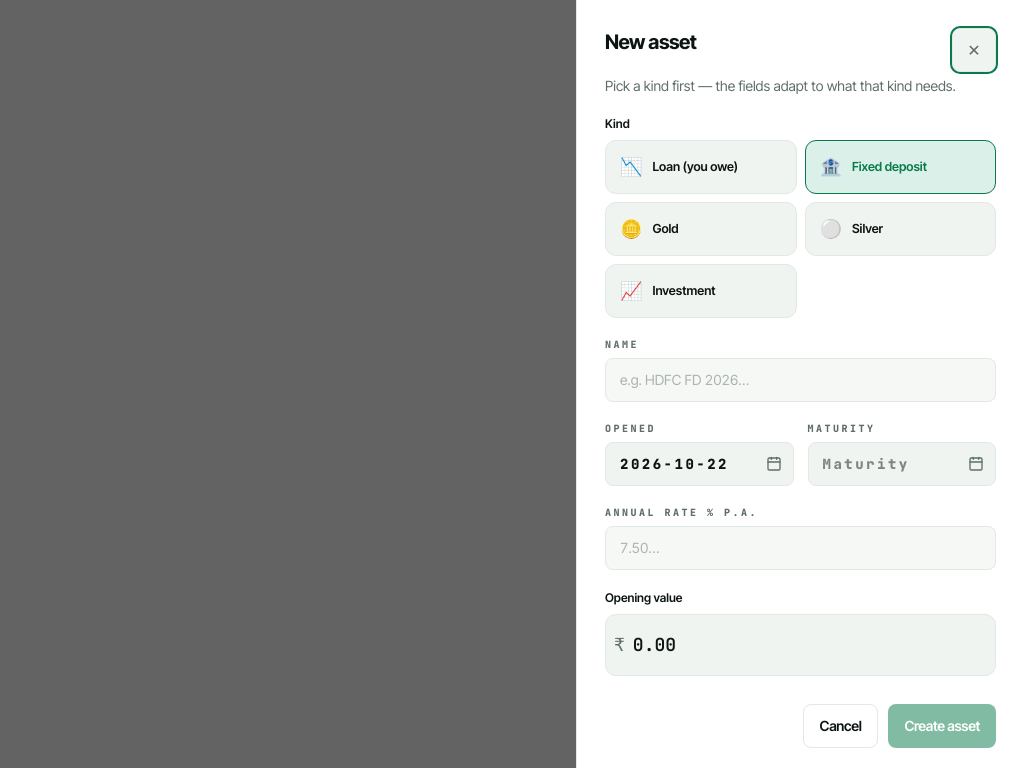
CreateAssetDrawer › disables Create asset until a name and a positive value are entered
This screenshot has width=1024, height=768.
Check: the button "Create asset" is disabled, box [888,704,996,748]
In the field labelled "Name": [800, 380] box [605,358,996,402], type "HDFC FD 2026"
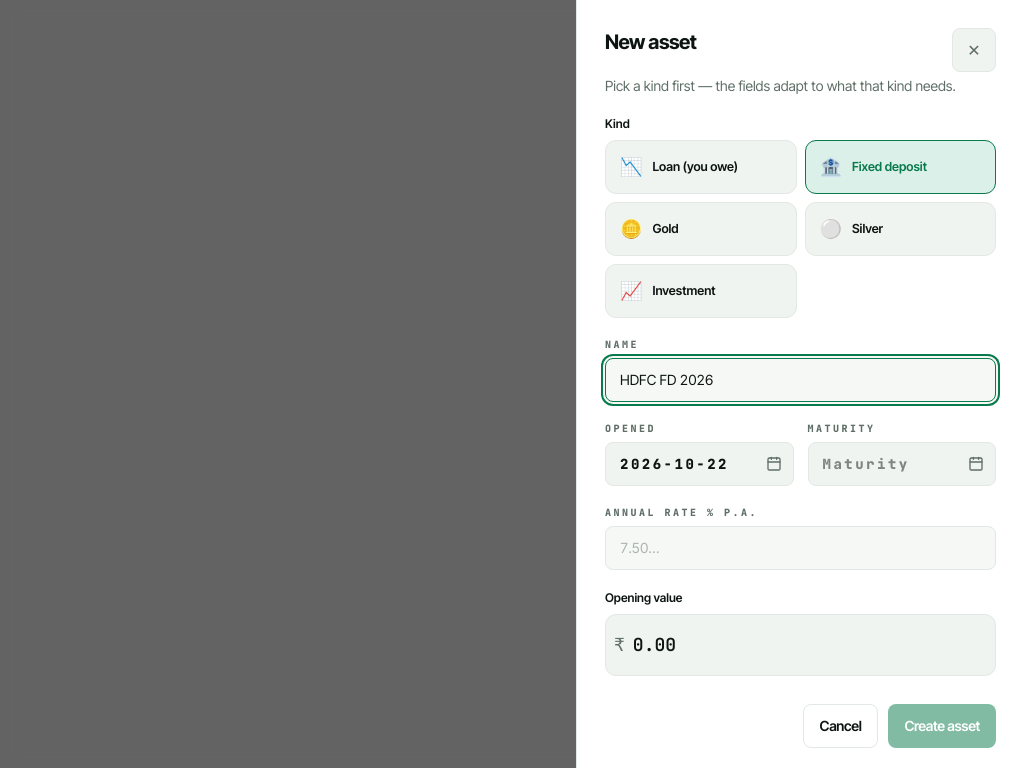
Check: the button "Create asset" is disabled, box [888,704,996,748]
Replace the text in the field labelled "Opening value" with "50000": [807, 645] box [633,619,981,671]
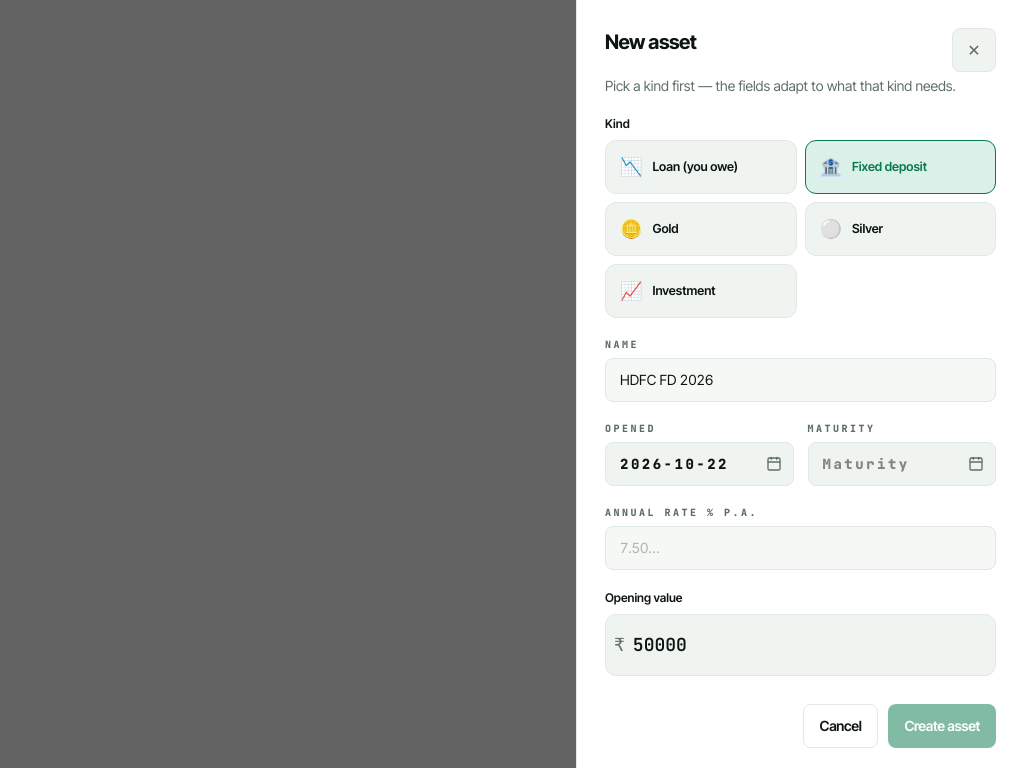
Press Tab
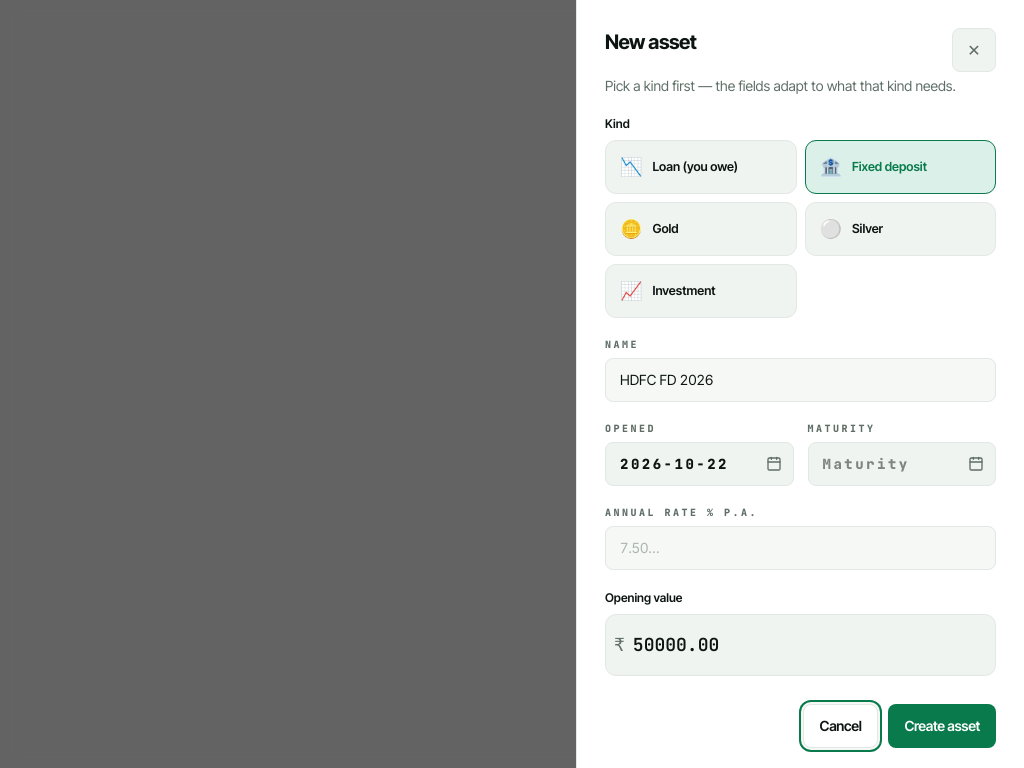
Check: the button "Create asset" is enabled, box [888,704,996,748]
